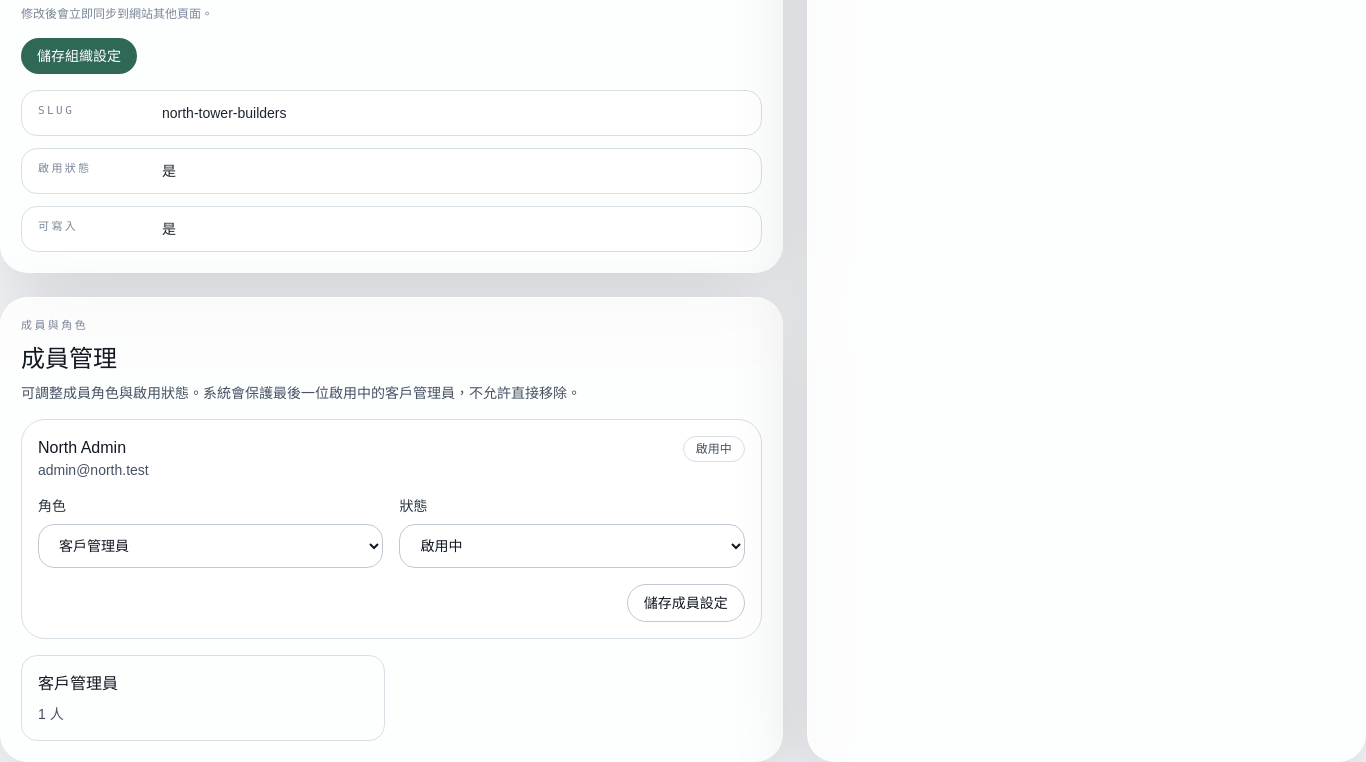
Test case: TeamPage › shows the last-admin guard when a mutation would remove the final active customer admin
This screenshot has width=1366, height=762.
(page scrolled)
Expected: the text "North Admin" is shown, [38,439,126,456]
Select "客戶檢視者" in the dropdown named "member-role-membership-1" at (211, 546), box [38,524,383,568]
(page scrolled)
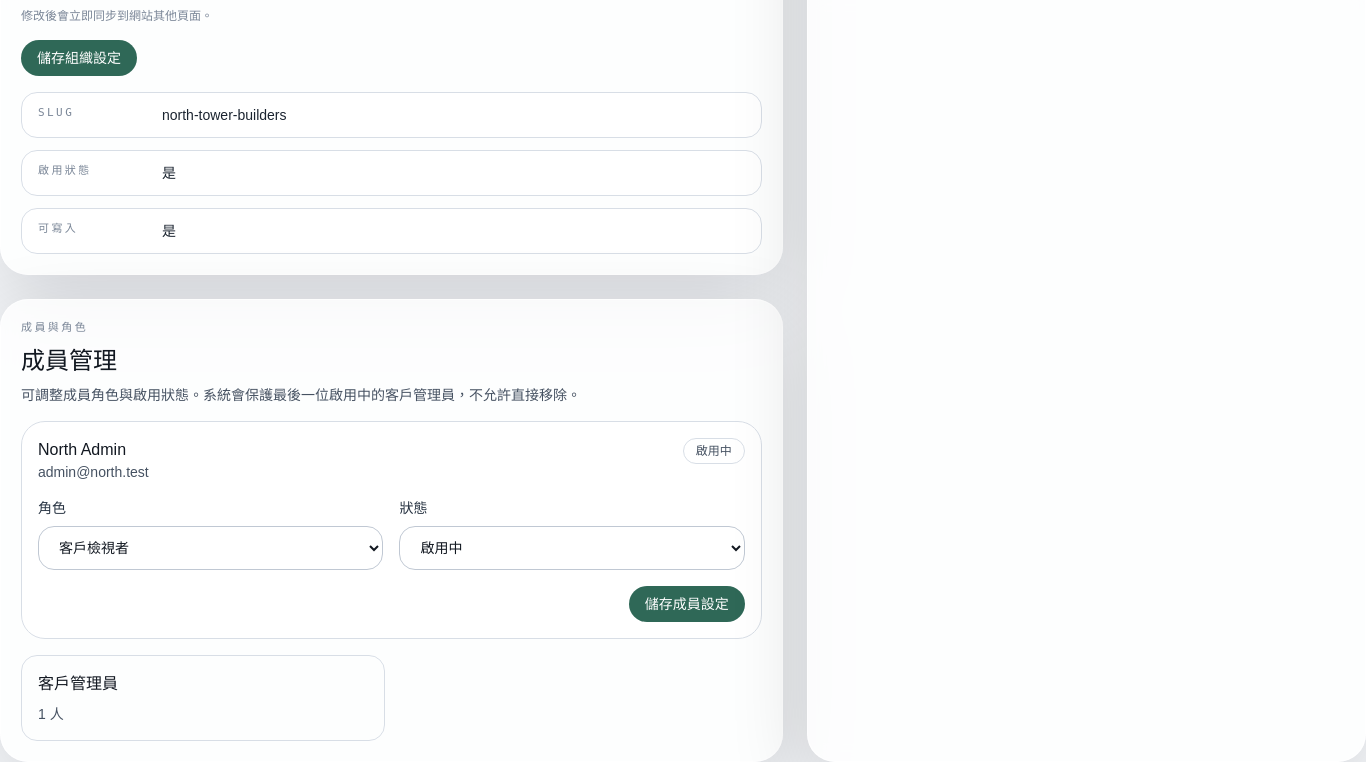
Click the button with aria-label "save-member-membership-1".
click(687, 604)  # box [629,586,745,622]
(page scrolled)
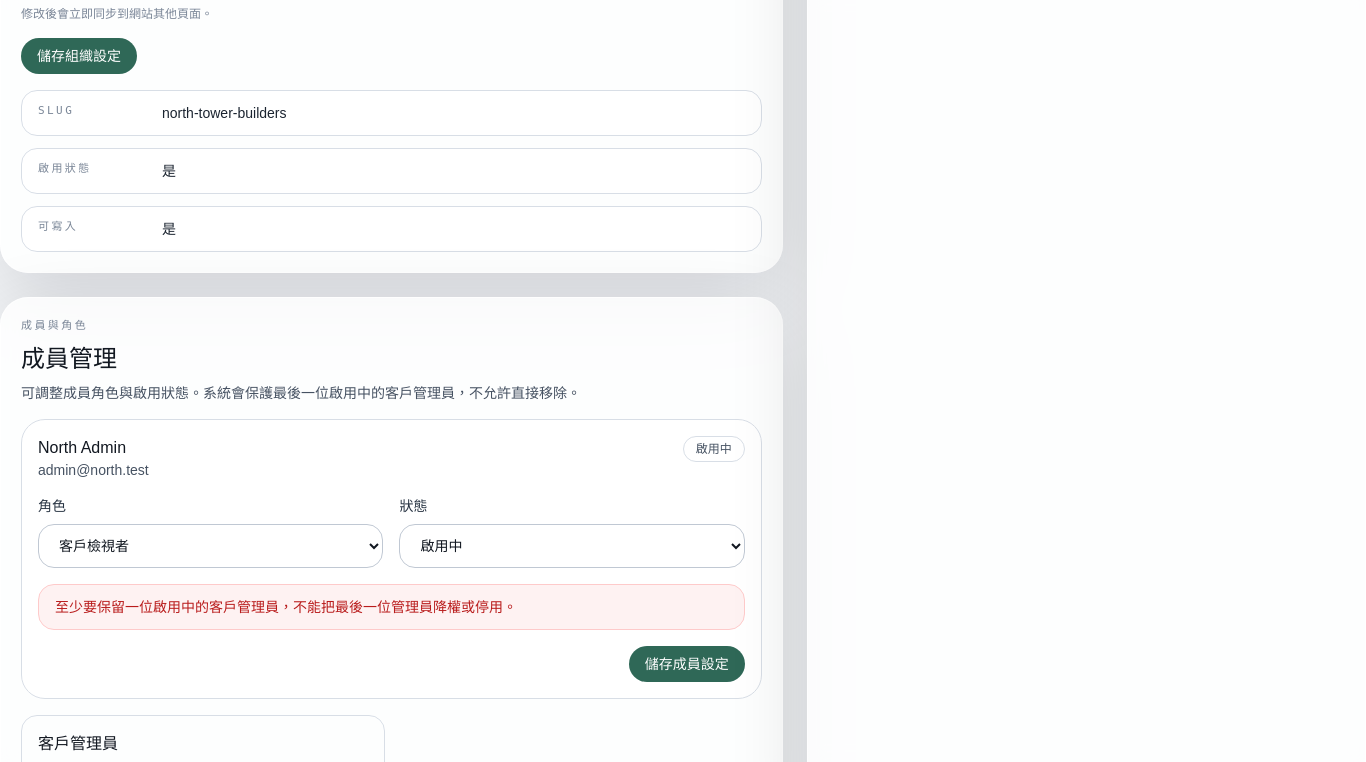
Now the text "至少要保留一位啟用中的客戶管理員，不能把最後一位管理員降權或停用。" is shown, box [38,584,745,630]
